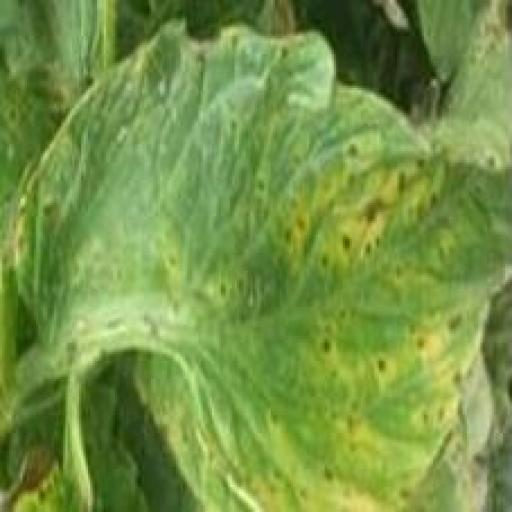Bacterial Spot: (13, 16, 512, 512)
